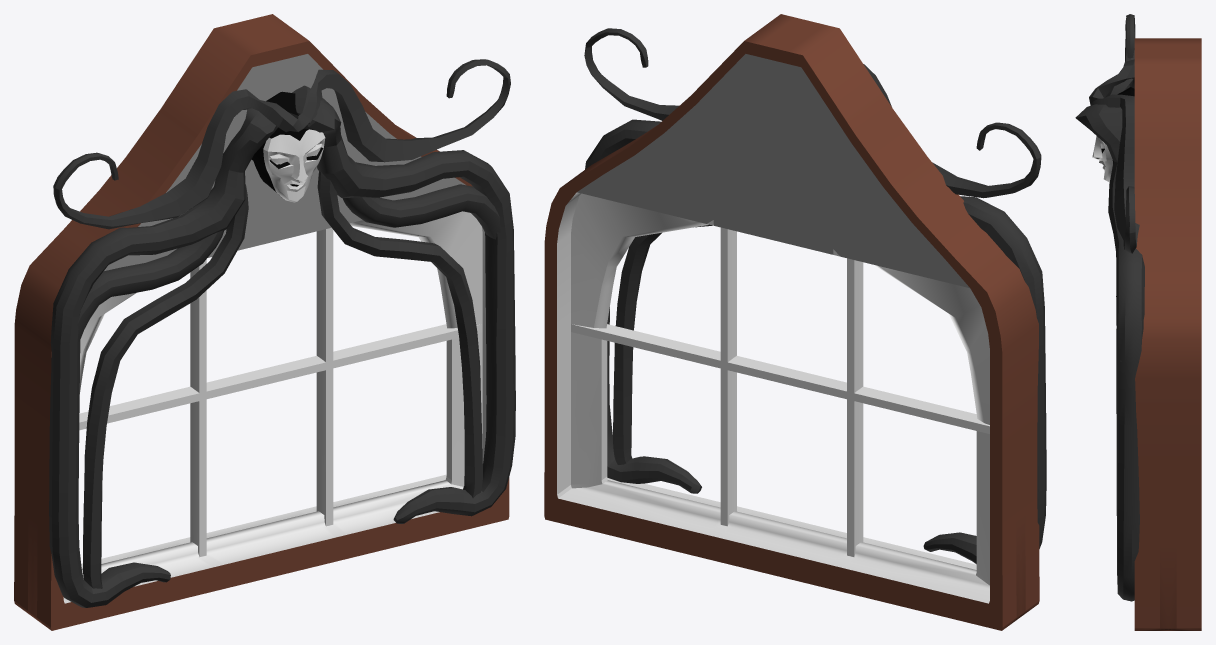
Rendered from LoungeWindow.fbx.
The picture shows the model from 3 angles, left to right: view 1: azimuth 30°, elevation 25°; view 2: azimuth 150°, elevation 25°; view 3: azimuth 270°, elevation 25°; orthographic projection. The views are drawn at different scales.
Visible parts, largest first — view 1: Cube.001; view 2: Cube.001; view 3: Cube.001.
Part boxes in pixels (x1=…): Cube.001: x1=14, y1=14, x2=515, y2=630; Cube.001: x1=544, y1=14, x2=1046, y2=630; Cube.001: x1=1075, y1=14, x2=1201, y2=630.
Bounding box in the file's own units: 98.22 × 107 × 25.6.
